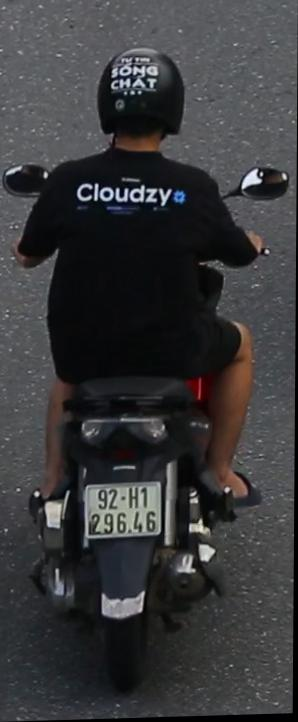LP: (82, 473, 167, 543)
helmet: (93, 39, 188, 159)
